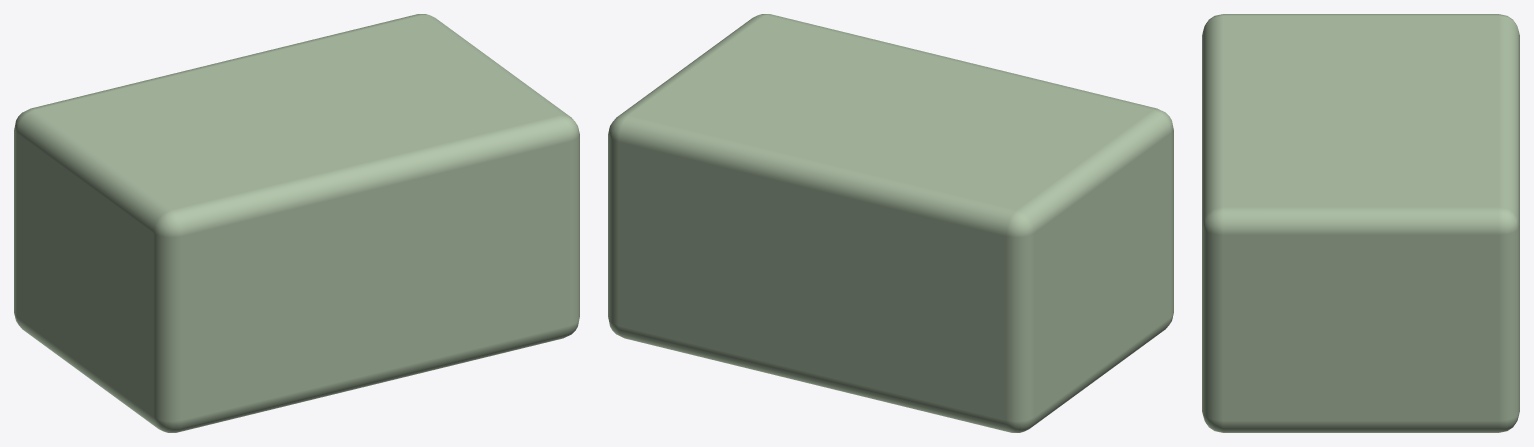
File: block_sage.glb
3 renders of one model, left to right at view 1: azimuth 30°, elevation 25°; view 2: azimuth 150°, elevation 25°; view 3: azimuth 270°, elevation 25°, orthographic.
Visible parts, largest first — view 1: block_sage; view 2: block_sage; view 3: block_sage.
Part boxes in pixels (<box>): block_sage: <box>14,14,579,432</box>; block_sage: <box>608,14,1173,432</box>; block_sage: <box>1202,14,1519,432</box>.
Size of the model in its own units: 0.07 by 0.035 by 0.045.
